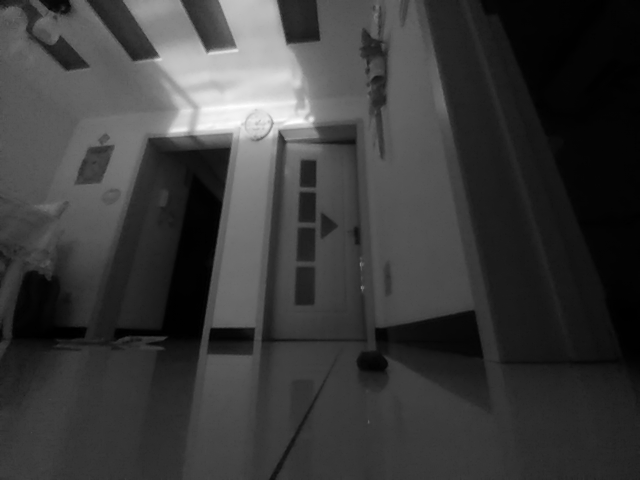pet feces: (356, 351, 388, 373)
